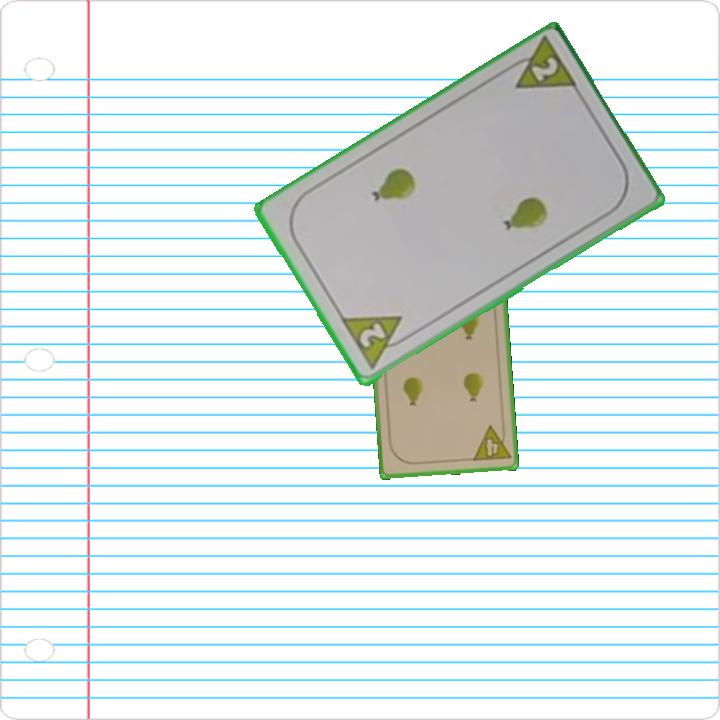2p: (337, 312, 415, 373), (501, 36, 581, 95)
4p: (469, 421, 514, 464)
